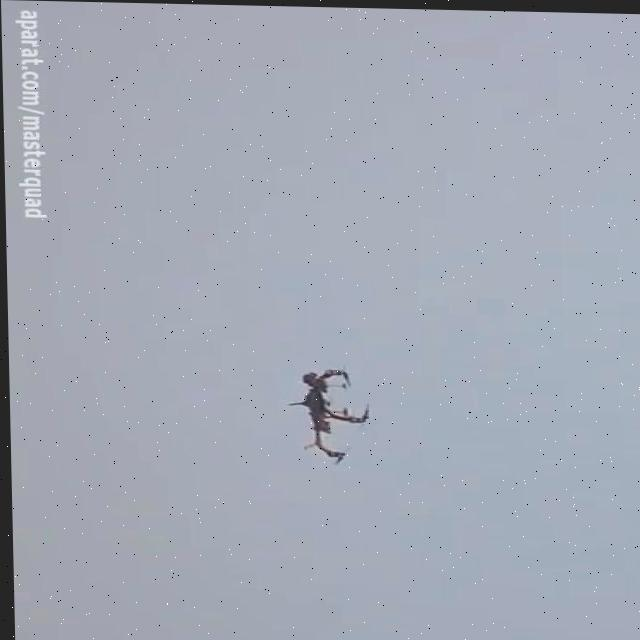drone: (283, 363, 376, 468)
